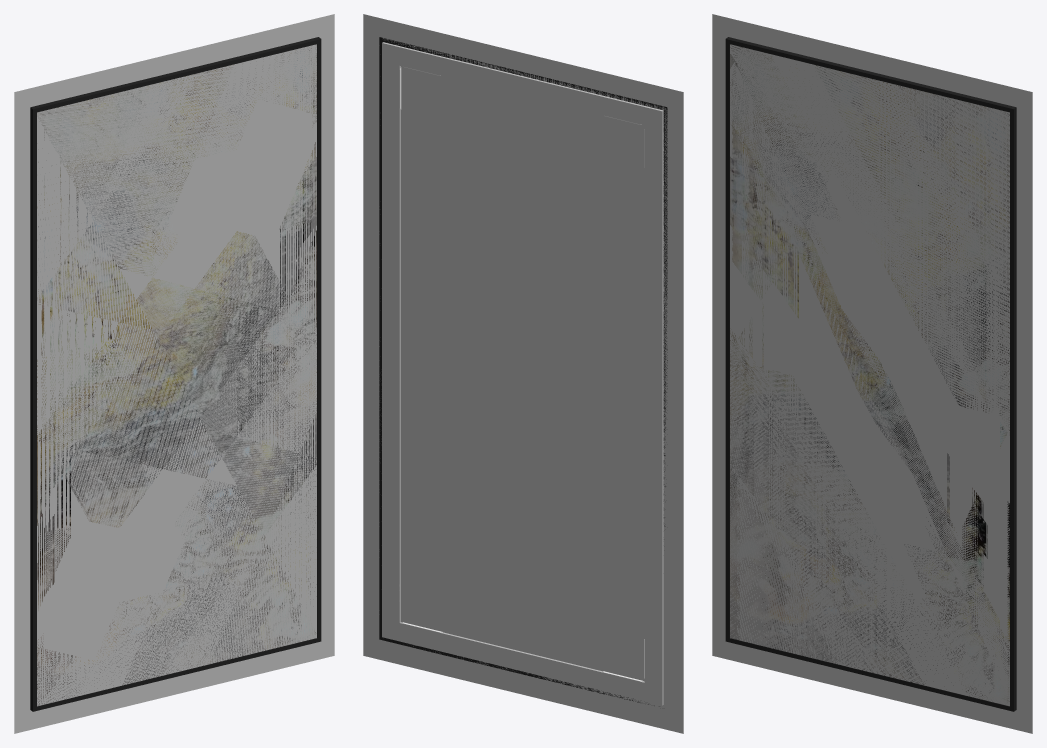
Rendered from Rock_sheet_WILDLIFE.dae.
3 views of the same model, side by side, from view 1: azimuth 30°, elevation 25°; view 2: azimuth 150°, elevation 25°; view 3: azimuth 330°, elevation 25° (orthographic).
Visible parts, largest first — view 1: group_14, image_0, group_6, group_4, group_5, group_7; view 2: image_0, group_1 (×2), group_4, group_5, group_6, group_7; view 3: group_14, image_0, group_4, group_6, group_5, group_7.
Part boxes in pixels (x1,y1,x2,y2): group_14: (37,44,316,706); image_0: (14,14,334,733); group_6: (30,107,36,711); group_4: (317,39,321,640); group_5: (31,37,320,112); group_7: (33,638,320,711); image_0: (363,14,683,733); group_1 (×2): (382,42,663,705); group_4: (379,37,382,638); group_5: (380,37,666,109); group_6: (663,107,667,526); group_7: (379,637,659,706); group_14: (730,44,1009,706); image_0: (712,14,1032,733); group_4: (1010,107,1016,711); group_6: (725,39,729,640); group_5: (726,37,1015,112); group_7: (726,638,1013,711).
Bounding box in the file's own units: 53.57 × 1.14 × 102.
